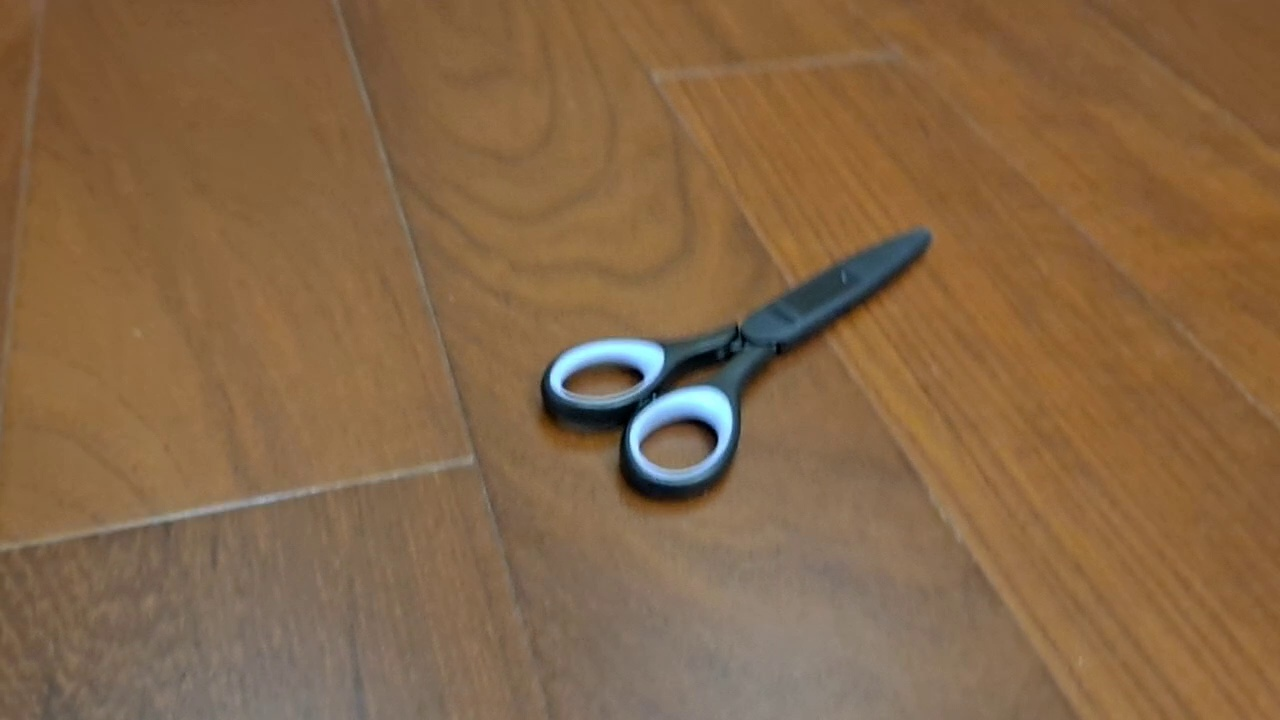scissors: (539, 222, 935, 503)
